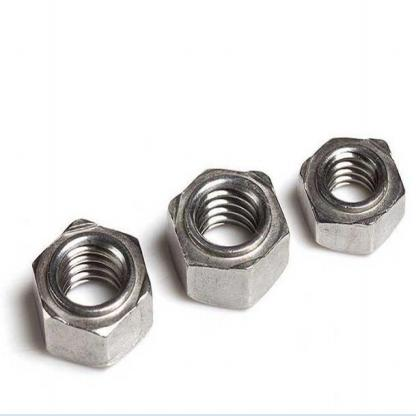FOD: (27, 218, 154, 372), (166, 166, 292, 312), (294, 134, 408, 259)
